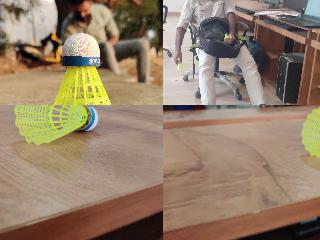shuttlecock: (38, 33, 130, 104), (13, 105, 100, 145), (300, 105, 319, 157), (223, 34, 231, 42)
